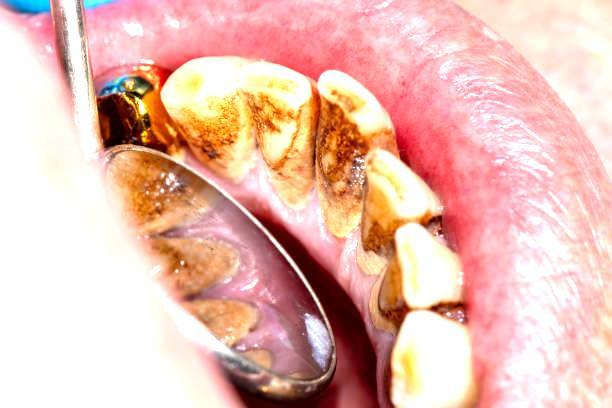Calculus: (161, 61, 317, 193), (312, 68, 403, 217)
Caries: (350, 143, 459, 256), (371, 226, 481, 321)
